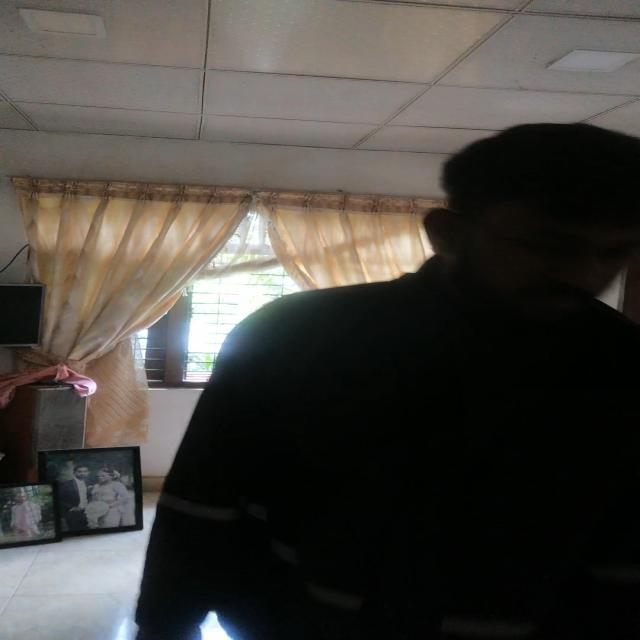Jacket_Wearer: (188, 278, 640, 640)
Person: (169, 116, 640, 640)
